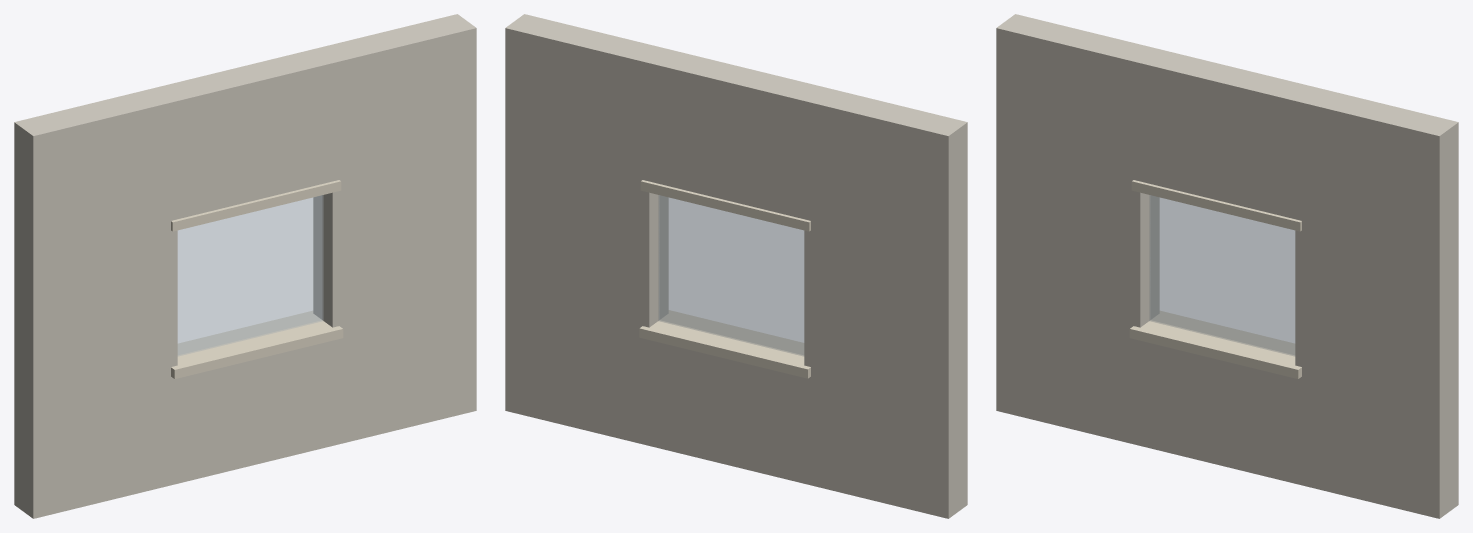
File: b-wall_window.glb
3 views of the same model, side by side, from view 1: azimuth 30°, elevation 25°; view 2: azimuth 150°, elevation 25°; view 3: azimuth 330°, elevation 25° (orthographic).
Visible parts, largest first — view 1: b-wall_window; view 2: b-wall_window; view 3: b-wall_window.
Part boxes in pixels (x1,y1,x2,y2): b-wall_window: (14,14,476,518); b-wall_window: (505,14,967,518); b-wall_window: (996,14,1458,518).
Bounding box in the file's own units: 4 × 3.3 × 0.41.
